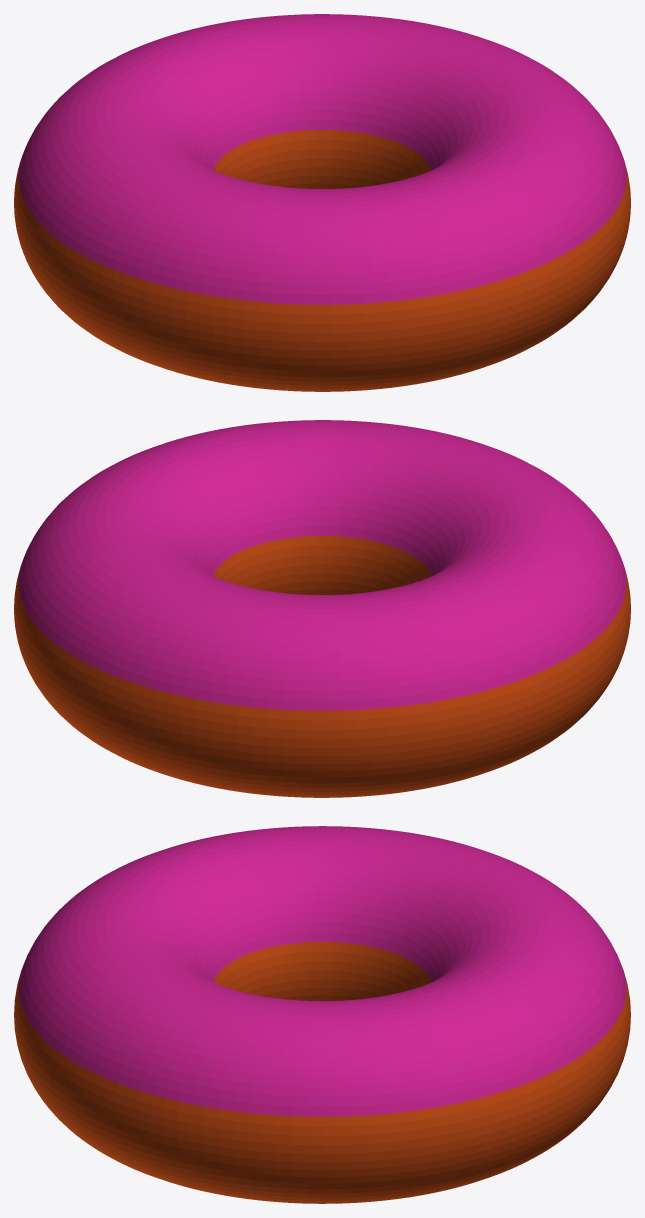
The model's file is donut.obj.
3 views of the same model, one above another, from view 1: azimuth 30°, elevation 25°; view 2: azimuth 150°, elevation 25°; view 3: azimuth 270°, elevation 25° (orthographic).
Visible parts, largest first — view 1: Torus; view 2: Torus; view 3: Torus.
Part boxes in pixels (box(x1,y1,x2,y2)): Torus: box(14, 14, 630, 391); Torus: box(14, 420, 630, 797); Torus: box(14, 826, 630, 1203).
Bounding box in the file's own units: 1.52 × 0.5 × 1.52.
